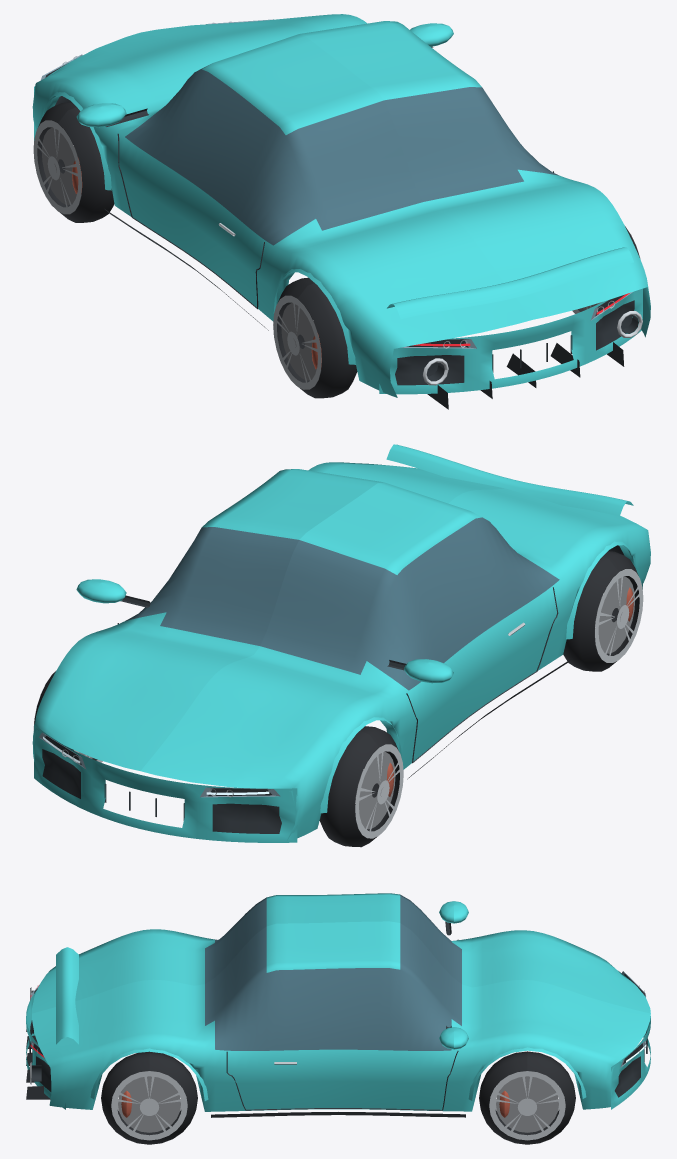
File: vortex_s_low.glb
3 views of the same model, one above another, from view 1: azimuth 30°, elevation 25°; view 2: azimuth 150°, elevation 25°; view 3: azimuth 270°, elevation 25° (orthographic). The views are drawn at different scales.
Visible parts, largest first — view 1: Body, Wheel_2, Wheel_0; view 2: Body, Wheel_0, Wheel_2; view 3: Body, Wheel_1, Wheel_3.
Part boxes in pixels (left/top/right/bottom): Body: left=32, top=14, right=650, bottom=409; Wheel_2: left=273, top=277, right=357, bottom=398; Wheel_0: left=33, top=102, right=114, bottom=222; Body: left=32, top=444, right=650, bottom=842; Wheel_0: left=319, top=726, right=403, bottom=847; Wheel_2: left=563, top=551, right=643, bottom=671; Body: left=26, top=893, right=650, bottom=1117; Wheel_1: left=479, top=1051, right=575, bottom=1144; Wheel_3: left=101, top=1051, right=197, bottom=1144.
Size of the model in its own units: 2.39 by 1.29 by 4.55.
